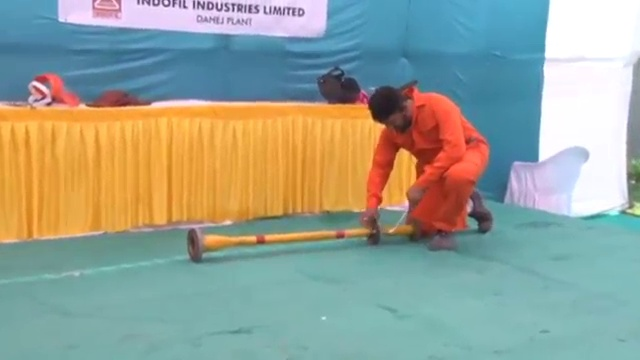helmet_off: (367, 85, 412, 130)
person: (361, 82, 495, 244)
